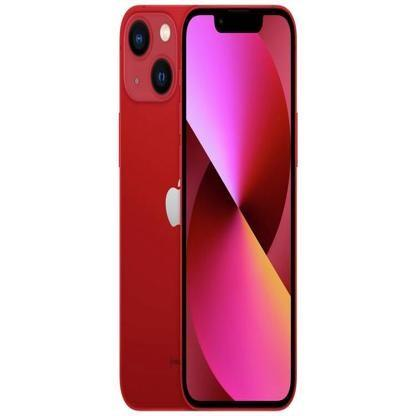not trash: (120, 4, 296, 410), (179, 6, 292, 408)
